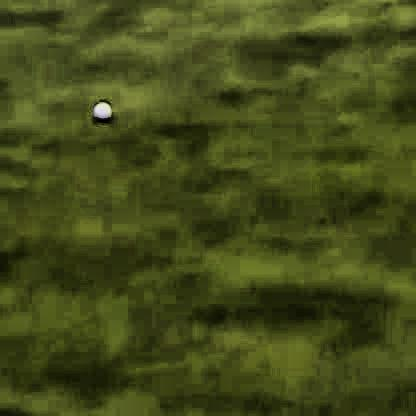golfball: (89, 94, 108, 118)
